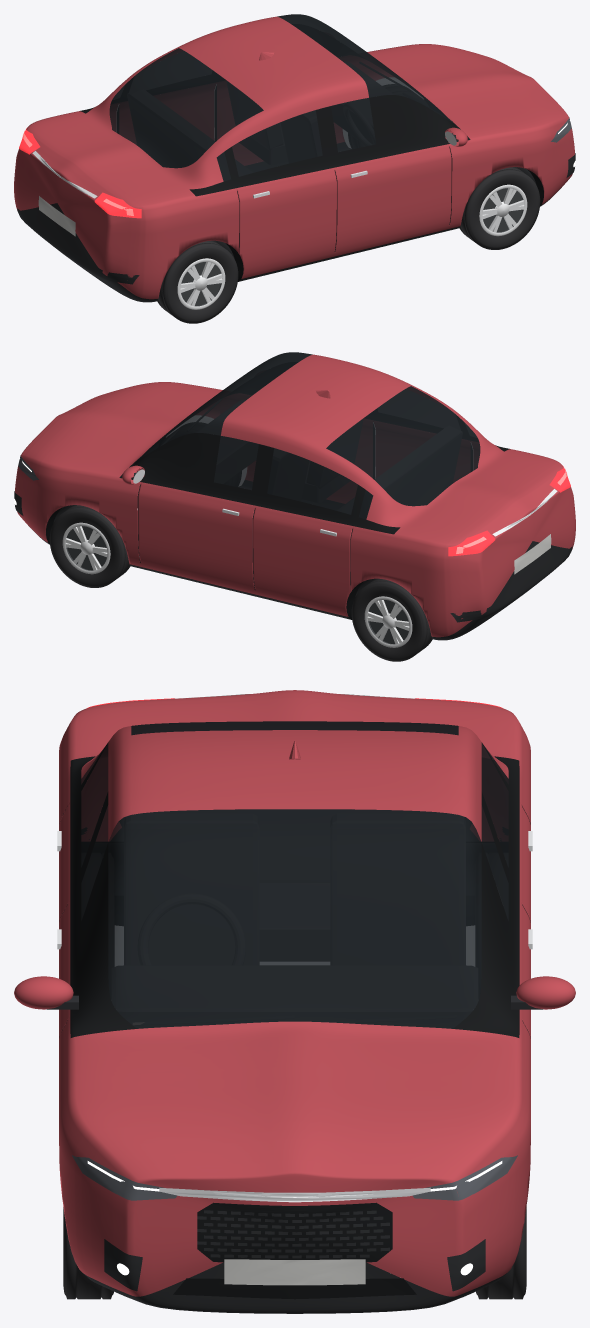
File: honda-amaze-model.glb
3 views of the same model, one above another, from view 1: azimuth 30°, elevation 25°; view 2: azimuth 150°, elevation 25°; view 3: azimuth 270°, elevation 25° (orthographic). The views are drawn at different scales.
Parts seen in each view (by area): view 1: Body, Wheel.004, Wheel.002, SeatBack.002, SeatBack.001, SeatBack, Dashboard, RearBumper, TailLamp, SeatBase, PlateRear, SteeringWheel; view 2: Body, Wheel.003, Wheel.001, SeatBack.002, Dashboard, SeatBack, SeatBack.001, RearBumper, TailLamp, SeatBase.001, PlateRear; view 3: Body, SeatBack, Dashboard, SeatBack.001, Grille, SeatBack.002, SeatBase.002, PlateFront, Intake, Headlamp, GrilleChrome0, FogPod (+8 smaller).
Boxes of the visible parts, box(x1,y1,x2,y2) form: Body: box(14, 14, 574, 302); Wheel.004: box(157, 240, 238, 323); Wheel.002: box(459, 167, 540, 249); SeatBack.002: box(127, 88, 230, 180); SeatBack.001: box(281, 110, 321, 162); SeatBack: box(227, 81, 282, 150); Dashboard: box(331, 62, 392, 143); RearBumper: box(17, 208, 139, 284); TailLamp: box(19, 127, 141, 218); SeatBase: box(239, 124, 287, 164); PlateRear: box(38, 196, 75, 236); SteeringWheel: box(343, 103, 375, 145); Body: box(15, 352, 575, 640); Wheel.003: box(351, 578, 432, 661); Wheel.001: box(49, 505, 130, 587); SeatBack.002: box(359, 426, 462, 518); Dashboard: box(197, 400, 258, 483); SeatBack: box(268, 448, 308, 500); SeatBack.001: box(307, 419, 362, 488); RearBumper: box(450, 546, 572, 622); TailLamp: box(448, 465, 570, 556); SeatBase.001: box(302, 462, 350, 502); PlateRear: box(514, 534, 551, 574); Body: box(59, 690, 530, 1313); SeatBack: box(331, 814, 465, 964); Dashboard: box(112, 966, 477, 1028); SeatBack.001: box(124, 814, 258, 964); Grille: box(197, 1202, 392, 1262); SeatBack.002: box(154, 810, 435, 882); SeatBase.002: box(260, 883, 329, 960); PlateFront: box(224, 1259, 365, 1285); Intake: box(173, 1278, 416, 1299); Headlamp: box(72, 1155, 517, 1200); GrilleChrome0: box(159, 1187, 430, 1202); FogPod: box(104, 1239, 485, 1291).
Size of the model in its own units: 3.93 by 1.55 by 2.07.
